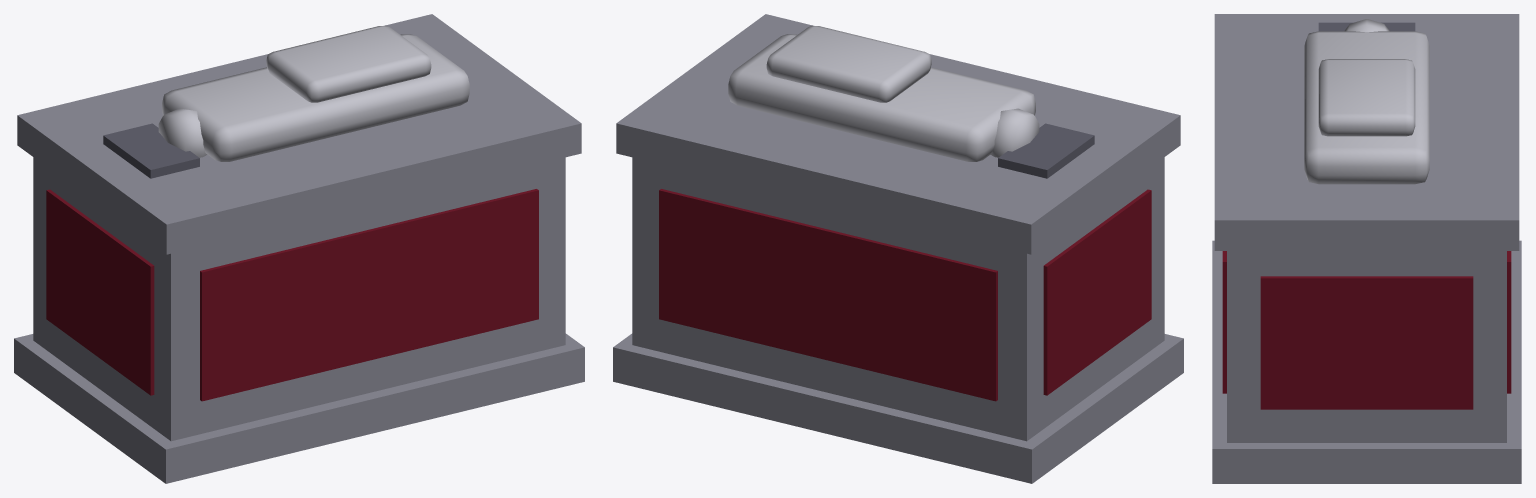
Rendered from crypt.glb.
3 renders of one model, left to right at view 1: azimuth 30°, elevation 25°; view 2: azimuth 150°, elevation 25°; view 3: azimuth 270°, elevation 25°, orthographic.
Parts seen in each view (by area): view 1: crypt; view 2: crypt; view 3: crypt.
Part boxes in pixels (x1,y1,x2,y2): crypt: [14, 14, 584, 483]; crypt: [613, 14, 1183, 483]; crypt: [1212, 14, 1521, 483].
Size of the model in its own units: 1.02 by 0.725 by 0.64.
